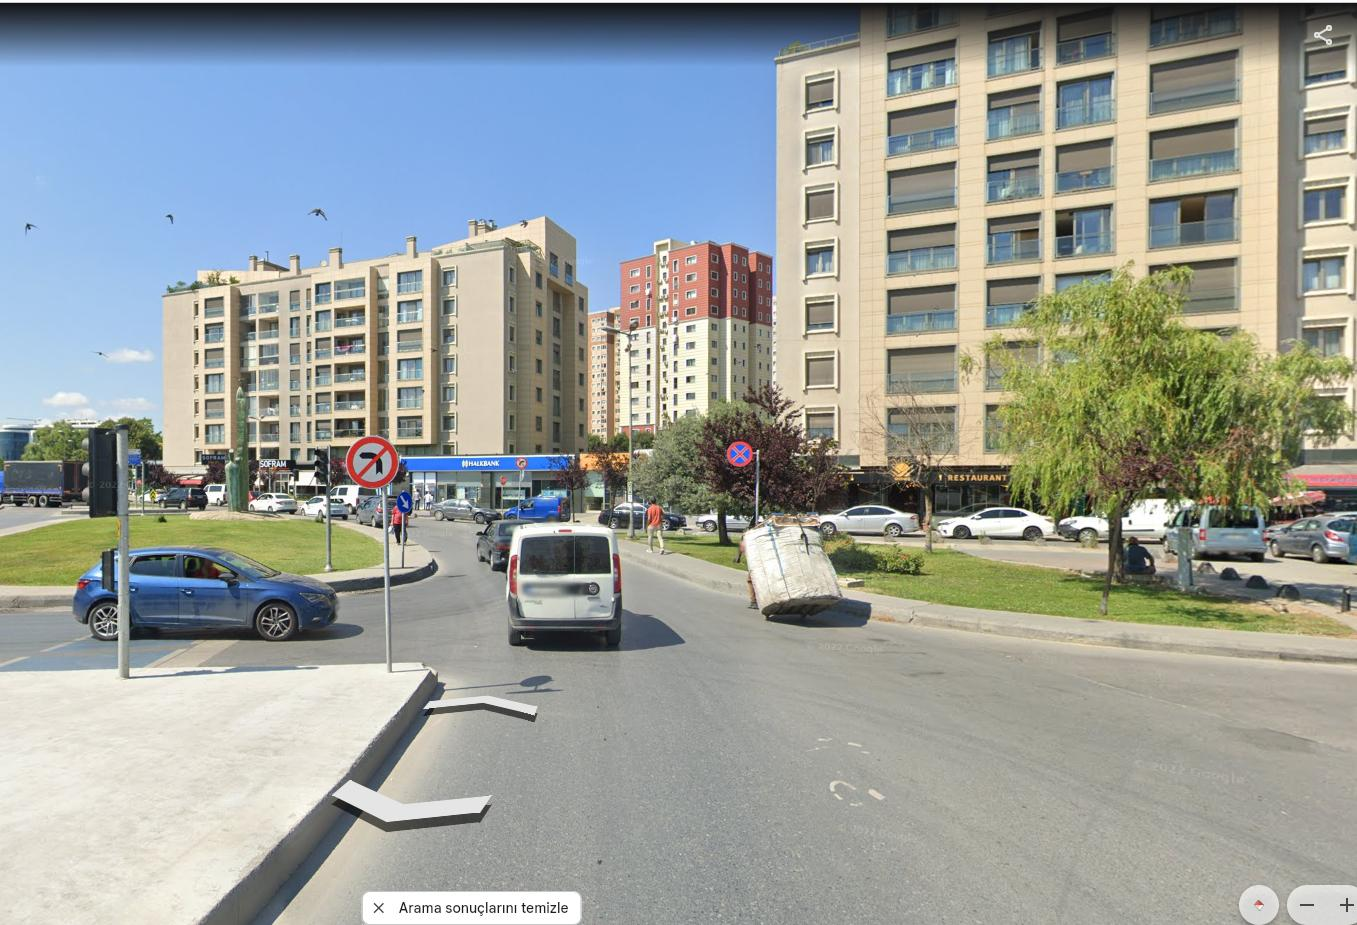leftturnsareforbidden: (349, 438, 398, 485)
